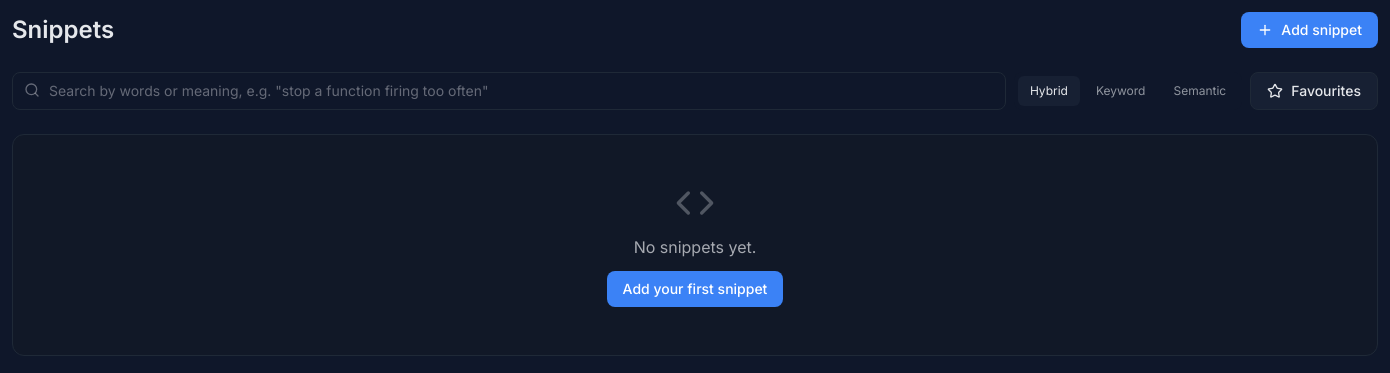
Test case: SnippetsPage › searches after typing pauses and labels how each result matched
Type "stop a function firing too often" into the search field named "Search snippets" at (509, 91), box [12,72,1006,110]
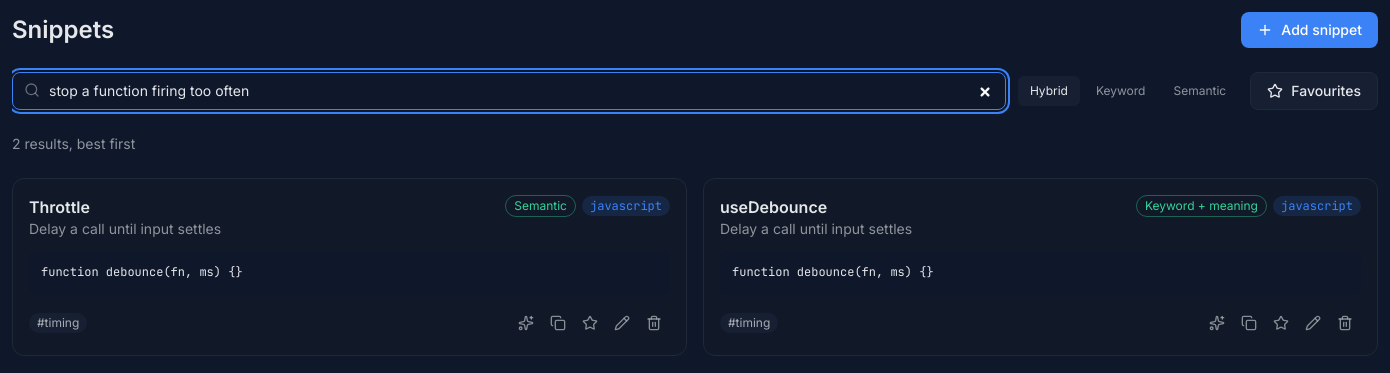
Expected: the text "Semantic" is shown, [505,195,576,217]
Expected: the text "Keyword + meaning" is shown, [1136,195,1267,217]
Expected: the text "2 results, best first" is shown, [12,135,135,152]
